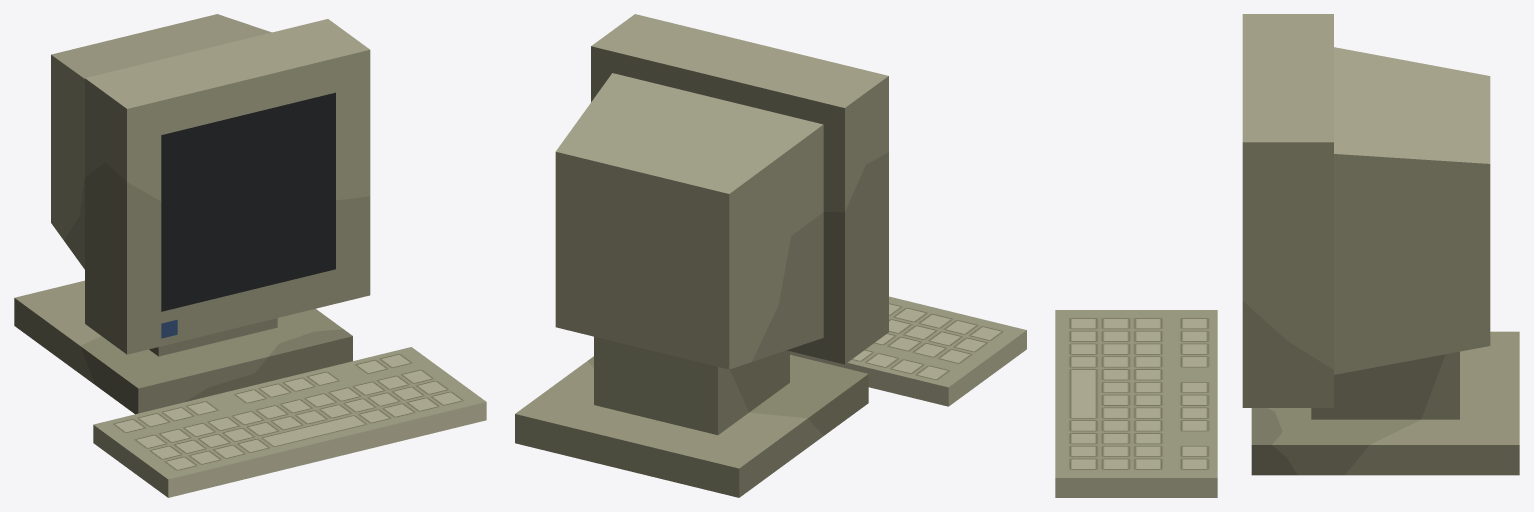
Rendered from AI_Prop_Computer_Off.fbx.
3 renders of one model, left to right at view 1: azimuth 30°, elevation 25°; view 2: azimuth 150°, elevation 25°; view 3: azimuth 270°, elevation 25°, orthographic. The views are drawn at different scales.
Visible parts, largest first — view 1: AI_Prop_Computer_Off; view 2: AI_Prop_Computer_Off; view 3: AI_Prop_Computer_Off.
Boxes of the visible parts, x1=… form: AI_Prop_Computer_Off: x1=14, y1=14, x2=486, y2=497; AI_Prop_Computer_Off: x1=515, y1=14, x2=1026, y2=497; AI_Prop_Computer_Off: x1=1055, y1=14, x2=1519, y2=497.
Bounding box in the file's own units: 1.19 × 1.13 × 1.4.
